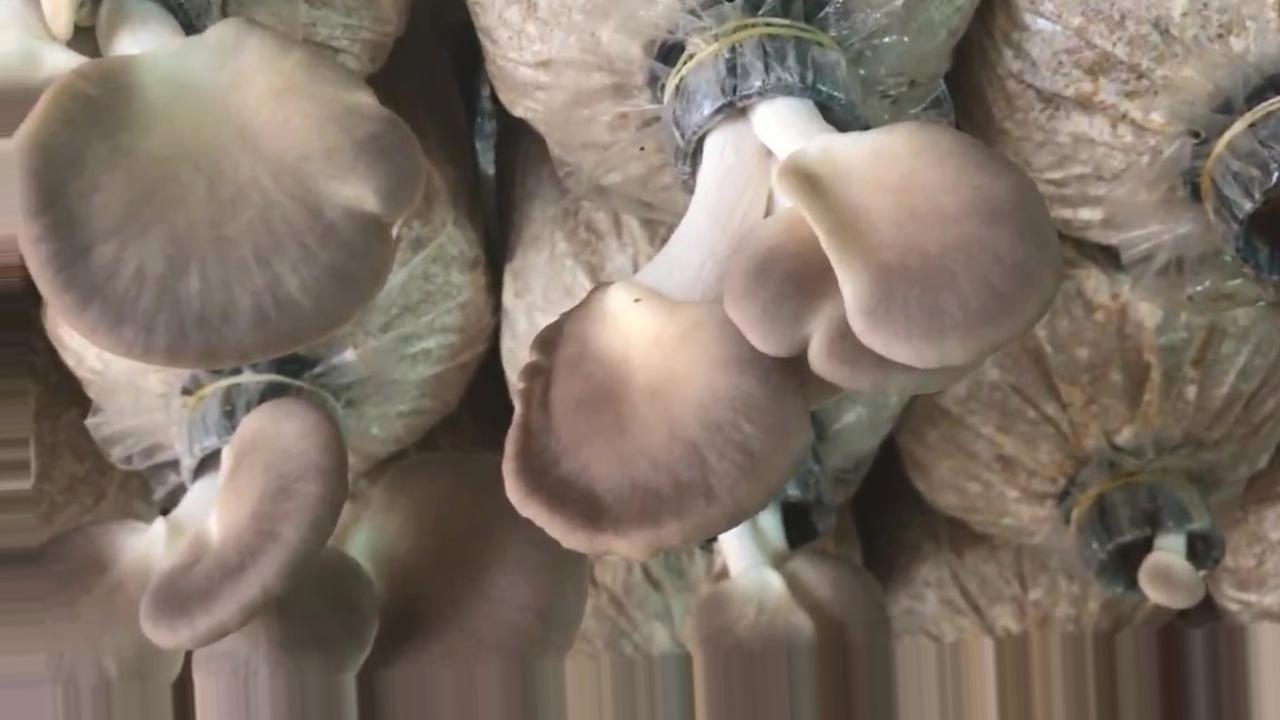nam: (503, 20, 1060, 555), (1, 381, 589, 718), (13, 1, 420, 370), (688, 458, 895, 720), (1078, 487, 1230, 608)
